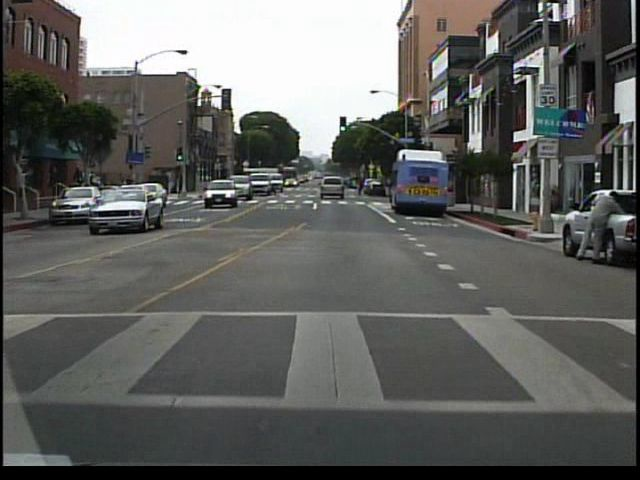person: (571, 184, 625, 265)
